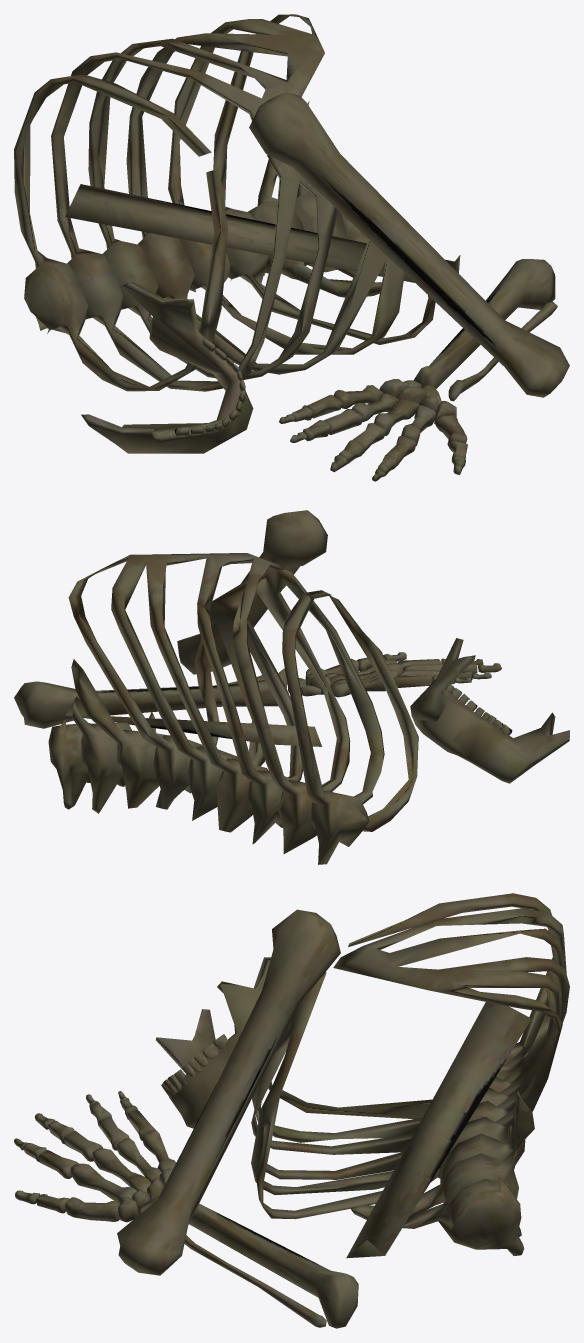
File: bone_pile.glb
The picture shows the model from 3 angles, top to bottom: view 1: azimuth 30°, elevation 25°; view 2: azimuth 150°, elevation 25°; view 3: azimuth 270°, elevation 25°; orthographic projection. The views are drawn at different scales.
Visible parts, largest first — view 1: vertebrae.013, humerus.004, vertebrae.011, hand.002, humerus.005, jaw.002, ulna.002, vertebrae.010, vertebrae.009, teeth.001, radius.002; view 2: vertebrae.013, vertebrae.011, jaw.002, ulna.002, humerus.004, vertebrae.010, hand.002, vertebrae.009, vertebrae.012, humerus.005, teeth.001; view 3: vertebrae.013, humerus.004, humerus.005, hand.002, ulna.002, jaw.002, vertebrae.011, vertebrae.012, vertebrae.009, vertebrae.010, radius.002, teeth.001.
Part boxes in pixels (x1,y1,x2,y2): vertebrae.013: (51,14,435,391); humerus.004: (249,92,569,397); vertebrae.011: (14,75,227,391); hand.002: (279,379,467,481); humerus.005: (65,184,460,282); jaw.002: (81,282,253,453); ulna.002: (413,259,555,388); vertebrae.010: (248,101,381,297); vertebrae.009: (294,183,374,282); teeth.001: (174,338,245,436); radius.002: (448,301,557,401); vertebrae.013: (68,553,384,853); vertebrae.011: (282,590,418,864); jaw.002: (410,638,569,783); ulna.002: (14,668,287,728); humerus.004: (177,510,327,674); vertebrae.010: (71,659,166,808); hand.002: (288,652,501,697); vertebrae.009: (72,701,131,813); vertebrae.012: (48,719,90,809); humerus.005: (65,696,321,746); teeth.001: (445,684,512,735); vertebrae.013: (251,908,569,1219); humerus.004: (117,909,340,1275); humerus.005: (346,1002,531,1258); hand.002: (14,1091,176,1222); ulna.002: (189,1203,358,1328); jaw.002: (156,957,270,1128); vertebrae.011: (268,893,554,1119); vertebrae.012: (437,1176,524,1255); vertebrae.009: (402,1134,525,1236); vertebrae.010: (351,1091,534,1219); radius.002: (184,1235,326,1327); teeth.001: (161,1034,227,1096).
Bounding box in the file's own units: 0.7473 × 0.382 × 0.678.
Materials: 12 (12 with a texture image).
